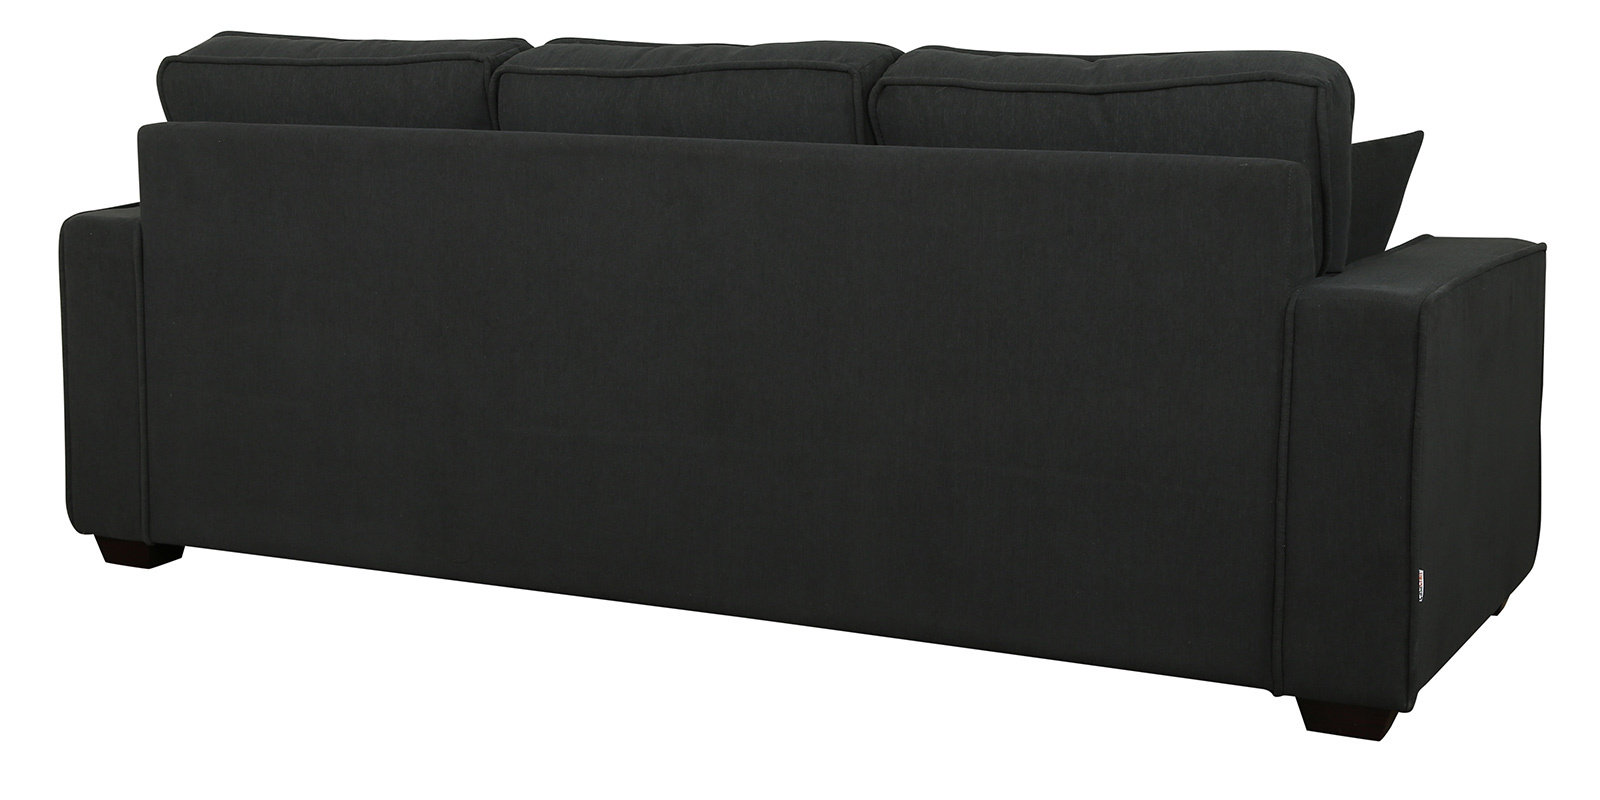Hugo Three Seater Sofa in Charcoal Grey Colour by CasaCraft: (52, 10, 1556, 769)
